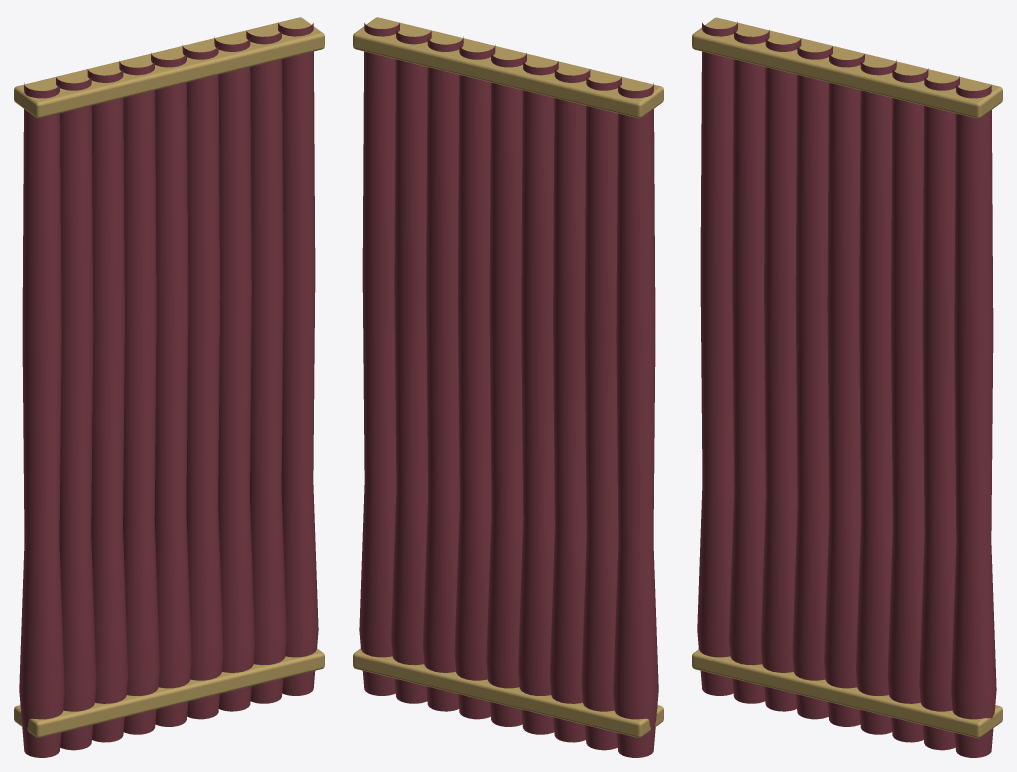
File: abandoned-puppet-theatre-and-prop-vault-gathered-stage-cebd22a1.glb
3 views of the same model, side by side, from view 1: azimuth 30°, elevation 25°; view 2: azimuth 150°, elevation 25°; view 3: azimuth 330°, elevation 25° (orthographic).
Parts seen in each view (by area): view 1: gathered-stage-curtain; view 2: gathered-stage-curtain; view 3: gathered-stage-curtain.
Boxes of the visible parts, x1=… form: gathered-stage-curtain: x1=14, y1=17, x2=324, y2=757; gathered-stage-curtain: x1=353, y1=17, x2=663, y2=757; gathered-stage-curtain: x1=692, y1=17, x2=1002, y2=757.
Size of the model in its own units: 1.04 by 2.25 by 0.15.
